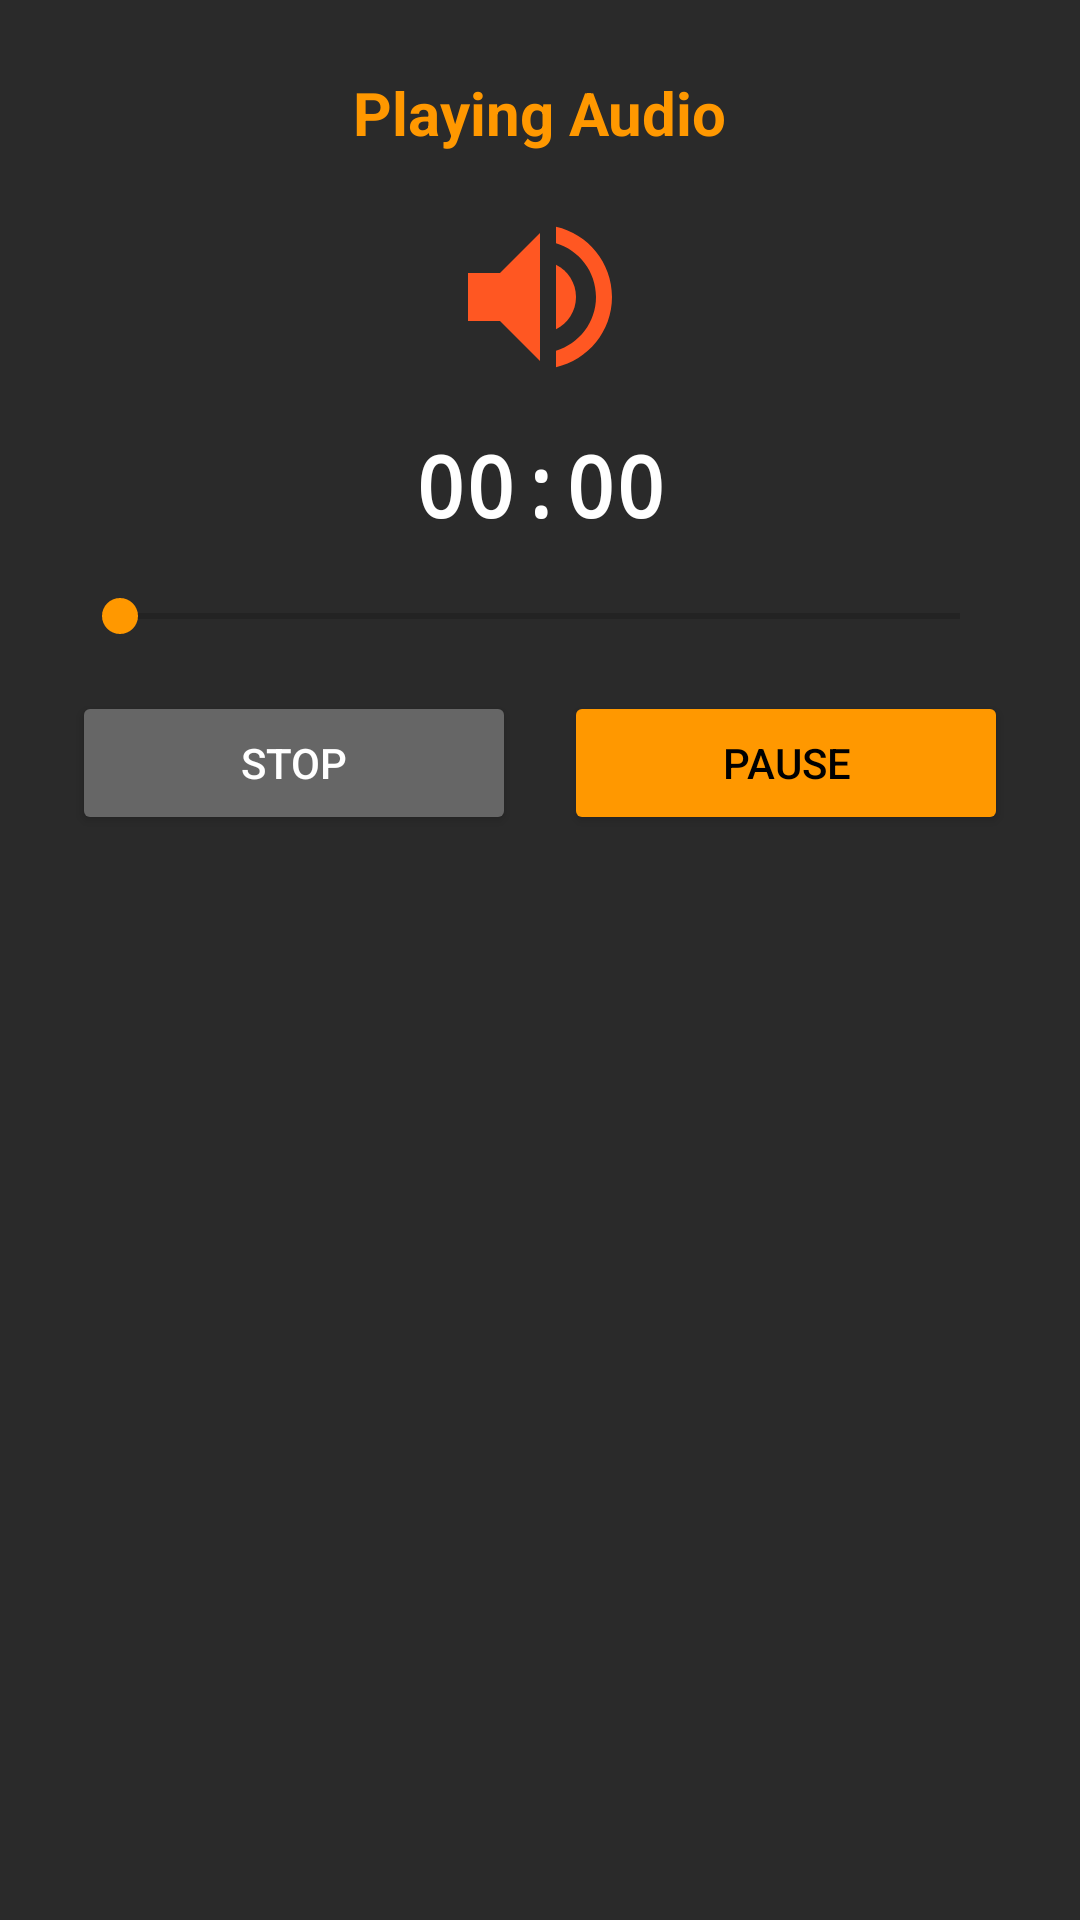

Named icons in this screenshot (1080w x 1920h) and their bounding boxes, (x1, y1, x2, y2):
Audio Player: (468, 226, 612, 367)
